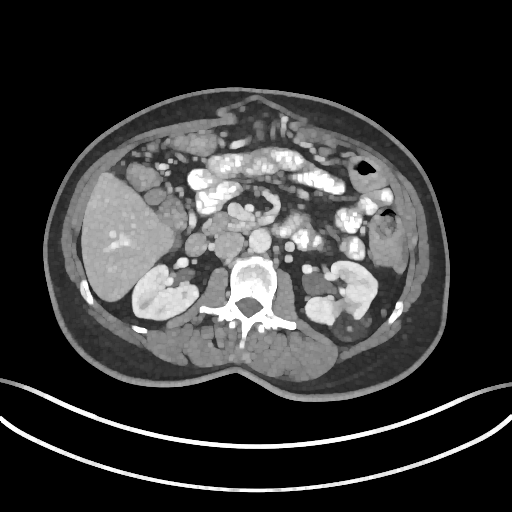Lesion: (328, 308, 374, 345)
